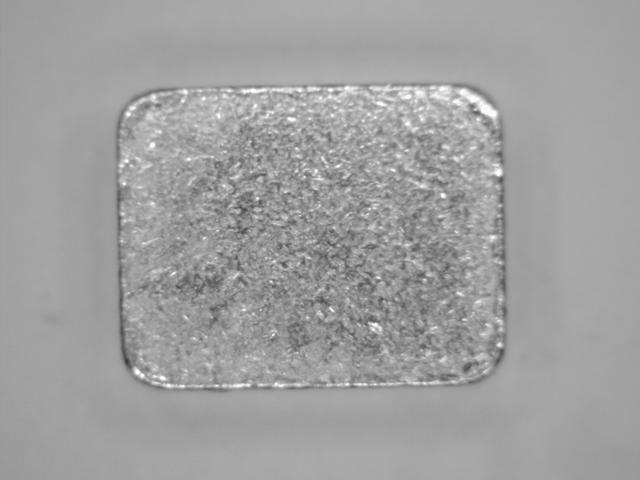ok: (110, 80, 511, 390)
